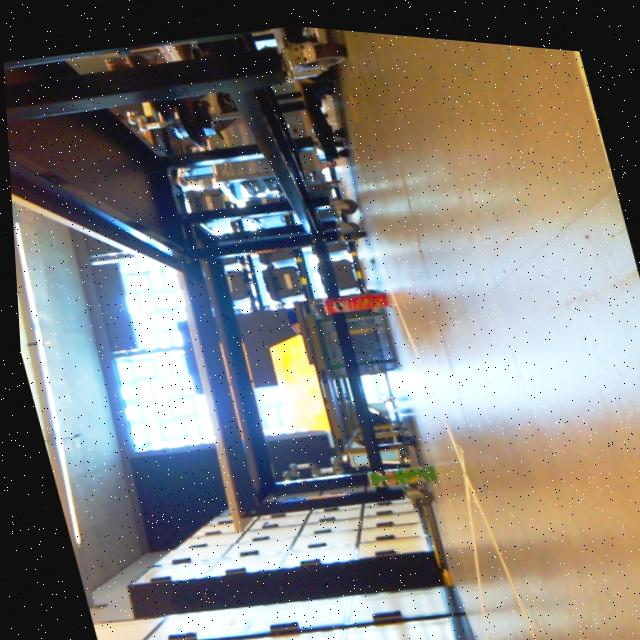greenpringles: (345, 436, 443, 499)
redpringles: (295, 265, 397, 330)
